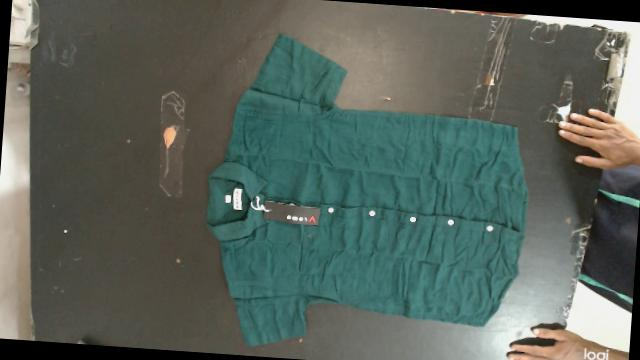new-garment: (206, 34, 527, 345)
